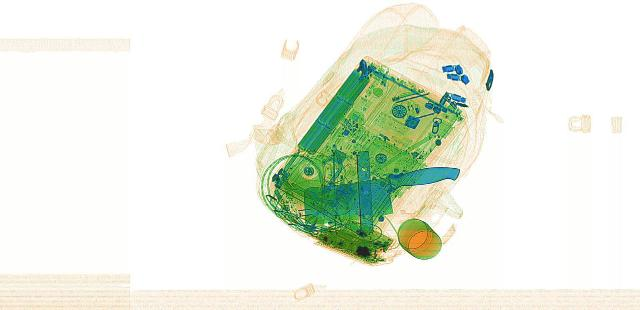Knife: (284, 163, 478, 224)
